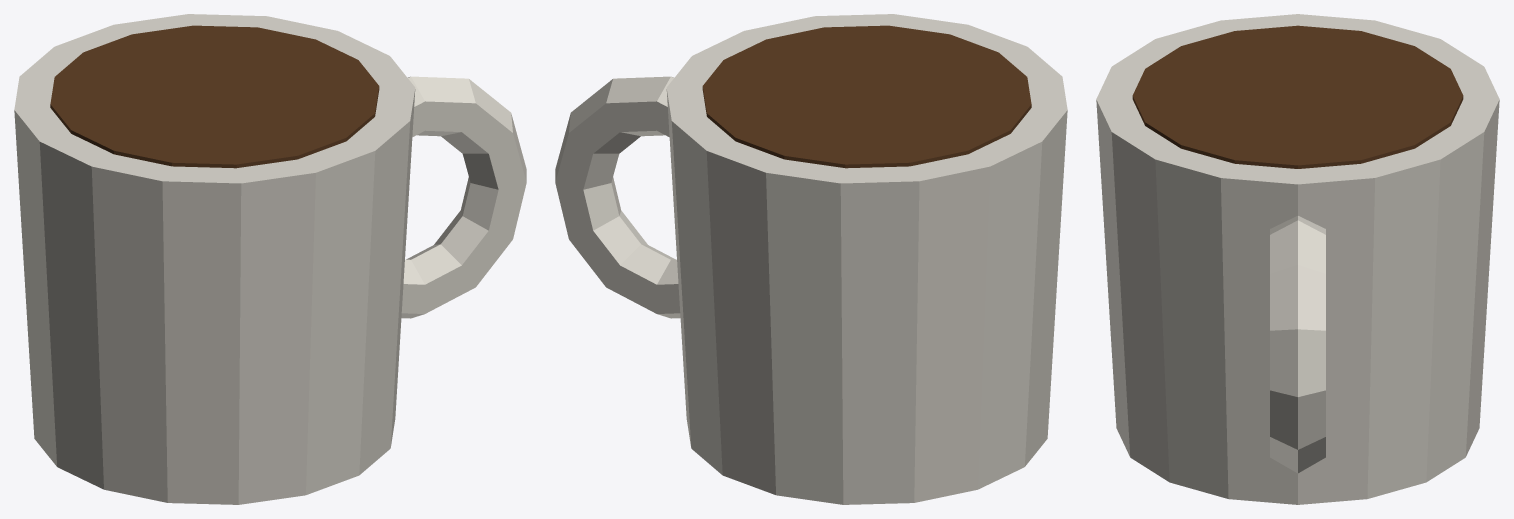
The model's file is mug.fbx.
3 renders of one model, left to right at view 1: azimuth 30°, elevation 25°; view 2: azimuth 150°, elevation 25°; view 3: azimuth 270°, elevation 25°, orthographic.
Parts seen in each view (by area): view 1: mug; view 2: mug; view 3: mug.
Boxes of the visible parts, box(x1,y1,x2,y2) form: mug: box(14, 14, 526, 504); mug: box(555, 14, 1067, 504); mug: box(1096, 14, 1499, 504).
Size of the model in its own units: 0.139 by 0.091 by 0.1.
